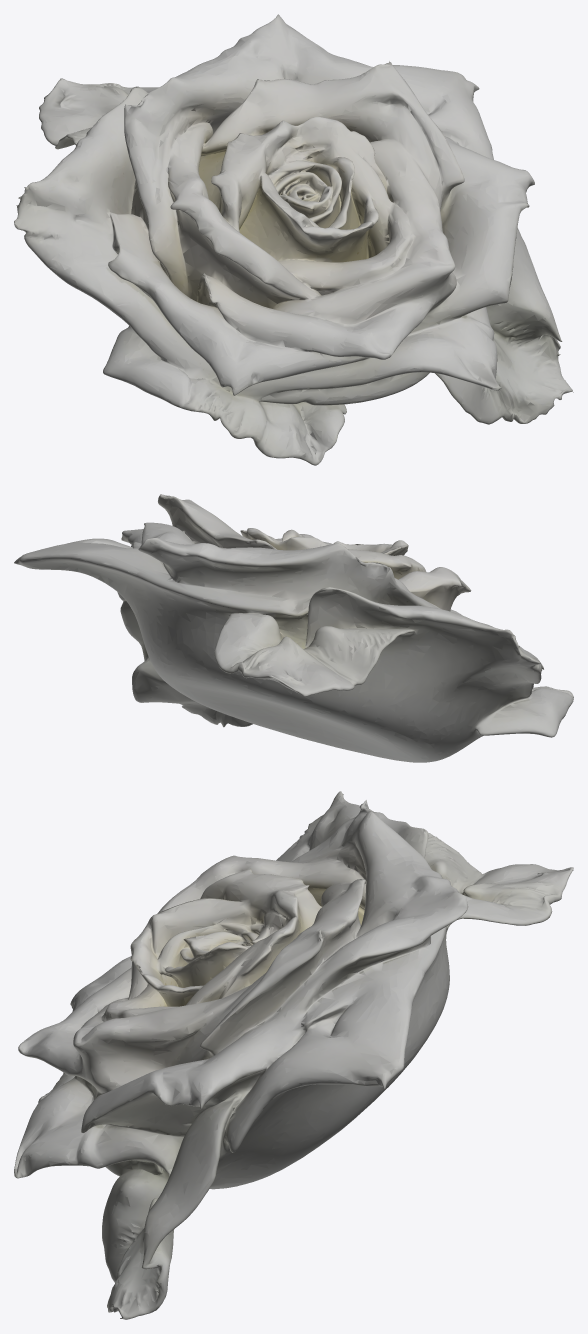
The model's file is white rose.fbx.
3 views of the same model, one above another, from view 1: azimuth 30°, elevation 25°; view 2: azimuth 150°, elevation 25°; view 3: azimuth 270°, elevation 25° (orthographic). The views are drawn at different scales.
Parts seen in each view (by area): view 1: tripo_node_b2d7678a; view 2: tripo_node_b2d7678a; view 3: tripo_node_b2d7678a.
Part boxes in pixels (<box>): tripo_node_b2d7678a: <box>14,14,573,465</box>; tripo_node_b2d7678a: <box>14,494,573,762</box>; tripo_node_b2d7678a: <box>14,791,573,1319</box>.
Bounding box in the file's own units: 98.03 × 85.28 × 60.94.
1 material, 1 textured.
